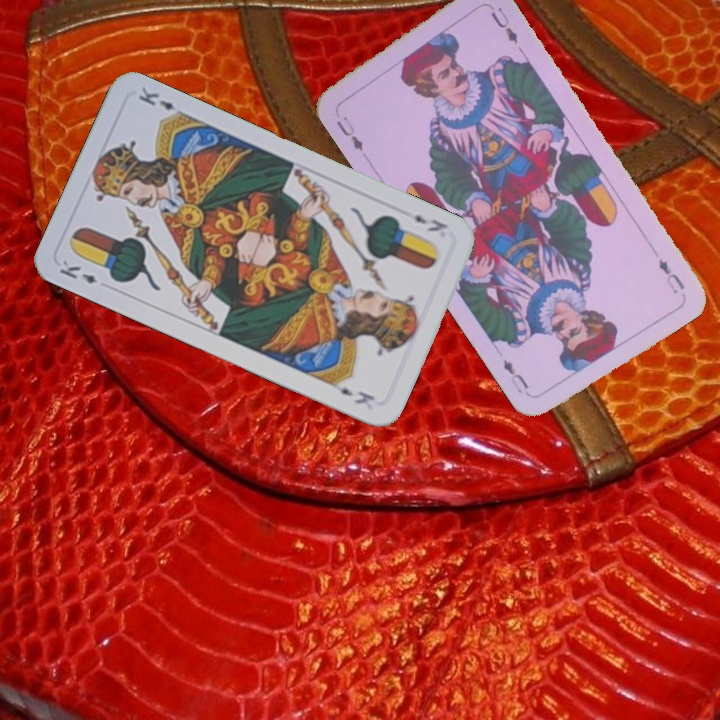EK: (55, 256, 100, 286), (410, 210, 451, 235)
EU: (332, 112, 366, 154), (654, 255, 687, 297)
